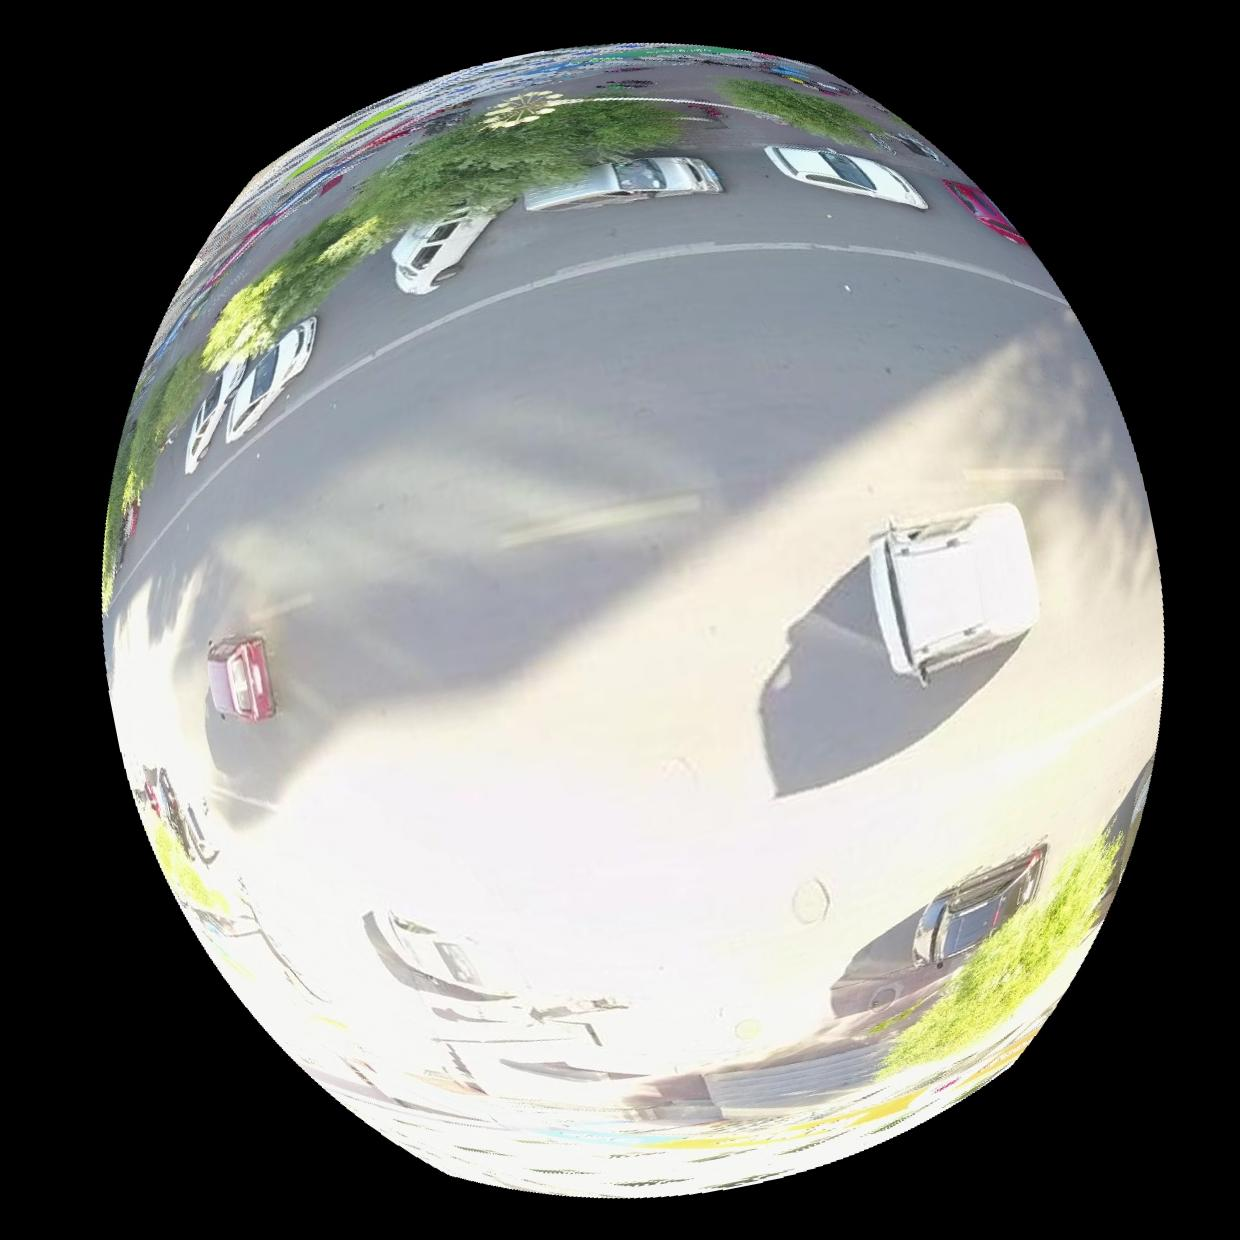cars: (870, 502, 1040, 684), (913, 847, 1046, 965), (226, 315, 316, 441), (523, 153, 723, 208), (766, 143, 928, 206), (391, 208, 494, 293), (183, 357, 246, 472), (206, 636, 275, 722), (942, 177, 1029, 243)
trees: (102, 89, 685, 590), (879, 828, 1125, 1076), (718, 74, 881, 143)
